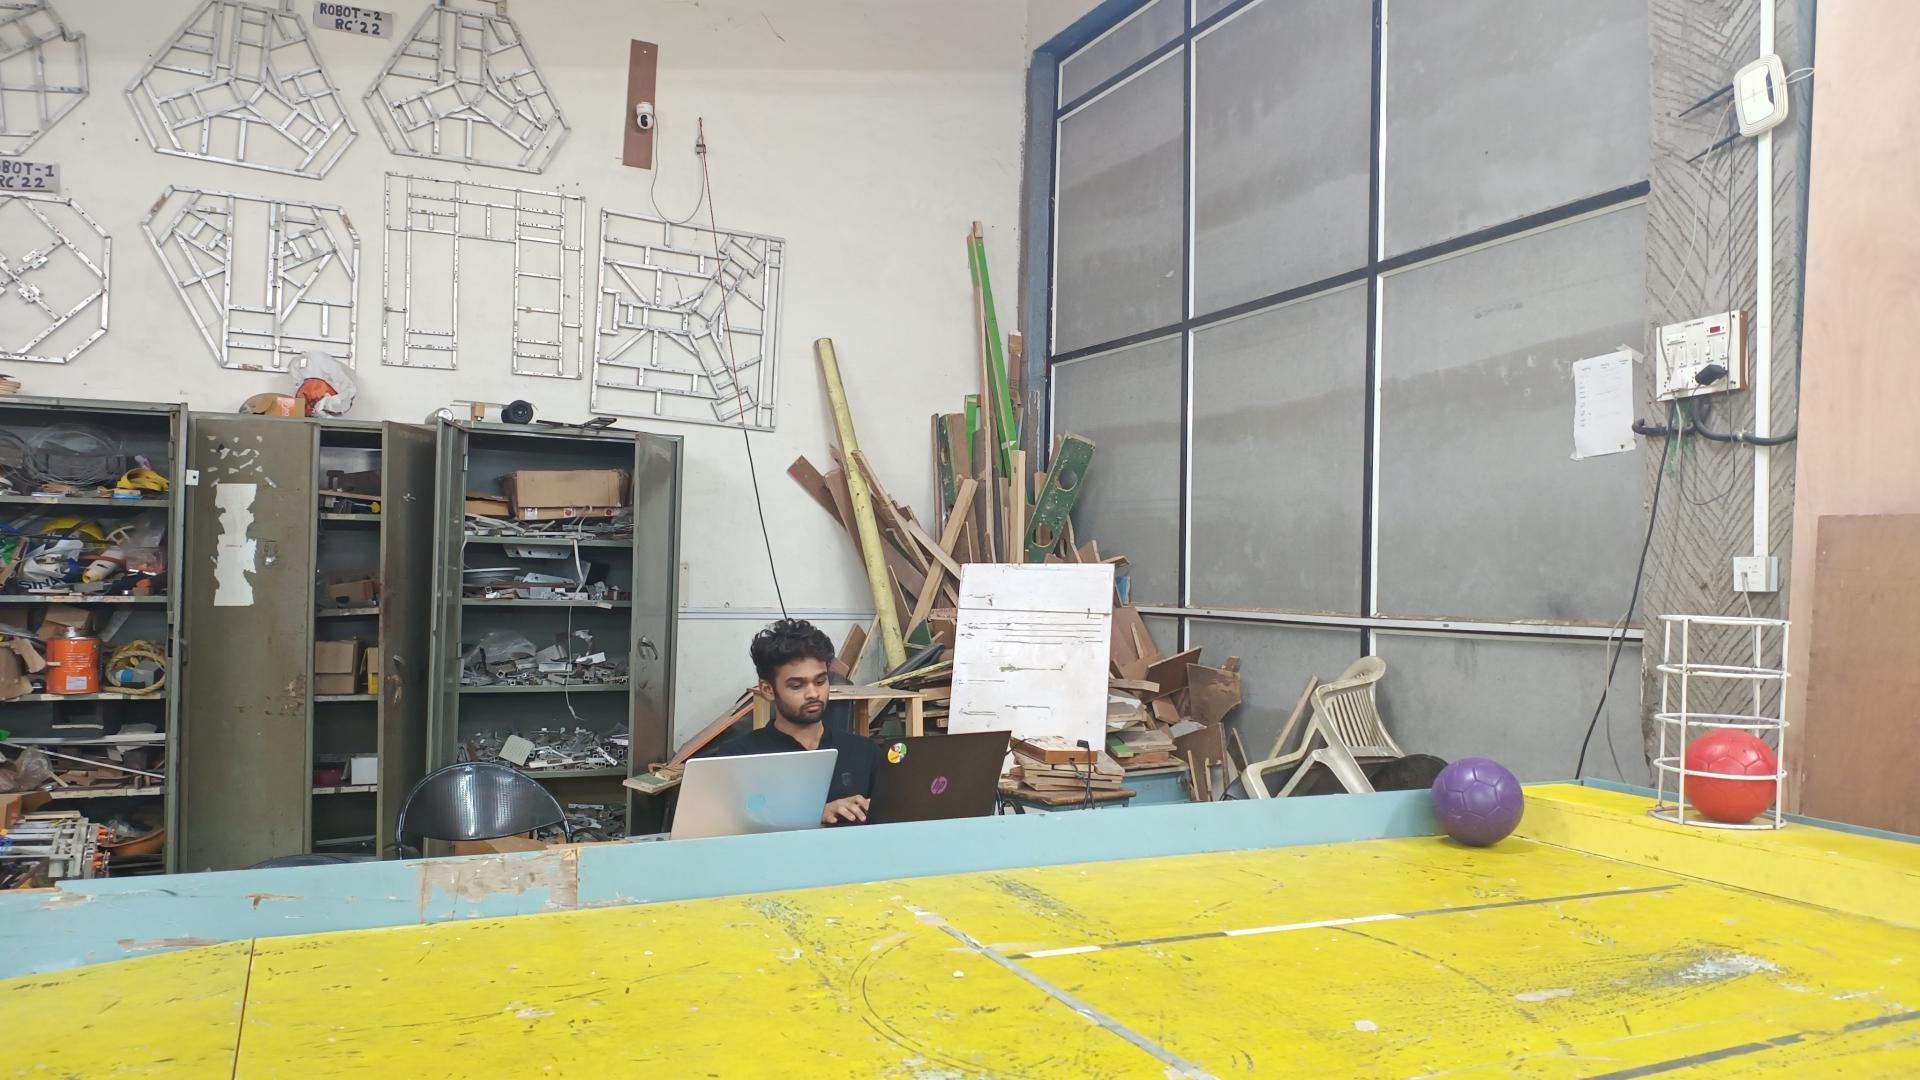laale: (1684, 728, 1778, 822)
